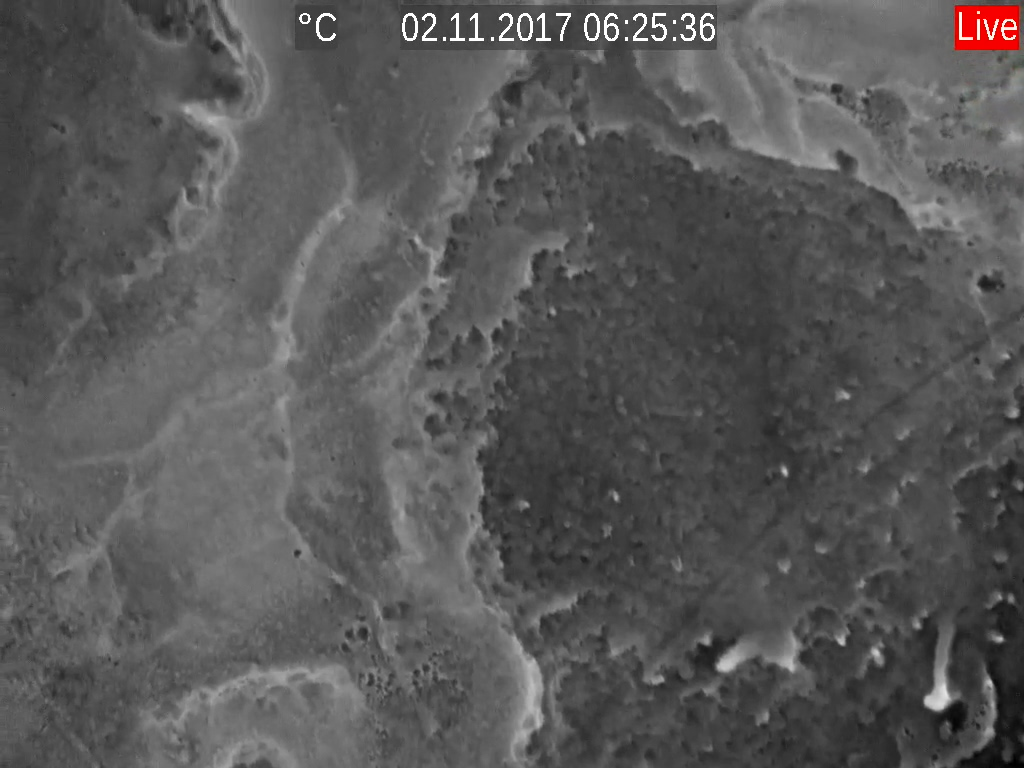warren: (713, 620, 804, 677), (916, 617, 959, 720), (773, 456, 798, 481), (987, 624, 1009, 647), (833, 385, 851, 402)
